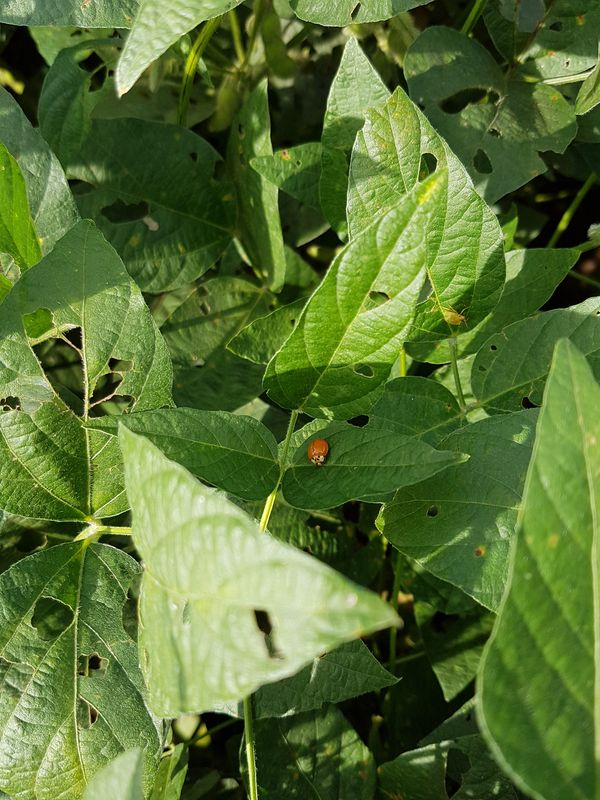Coccinellidae: (299, 433, 337, 473)
